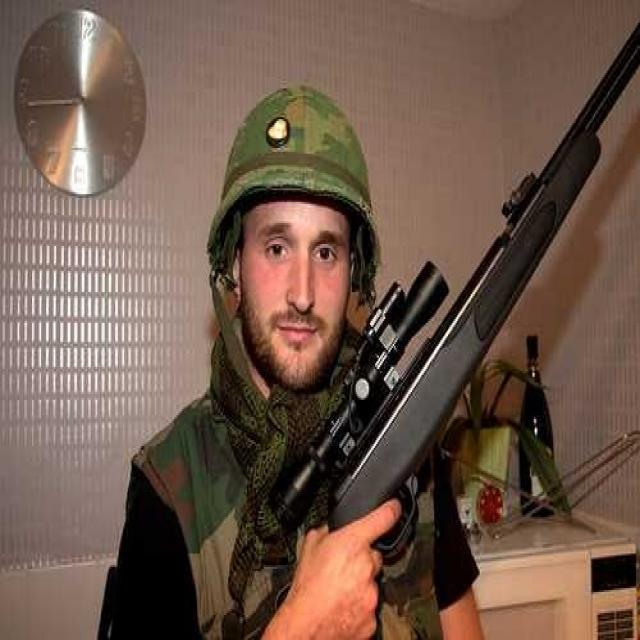weapon: (257, 31, 621, 571)
